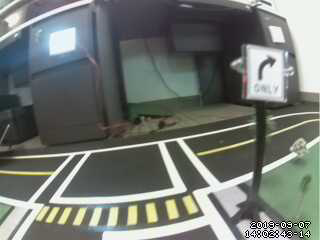Right_only_sign: (248, 44, 286, 105)
